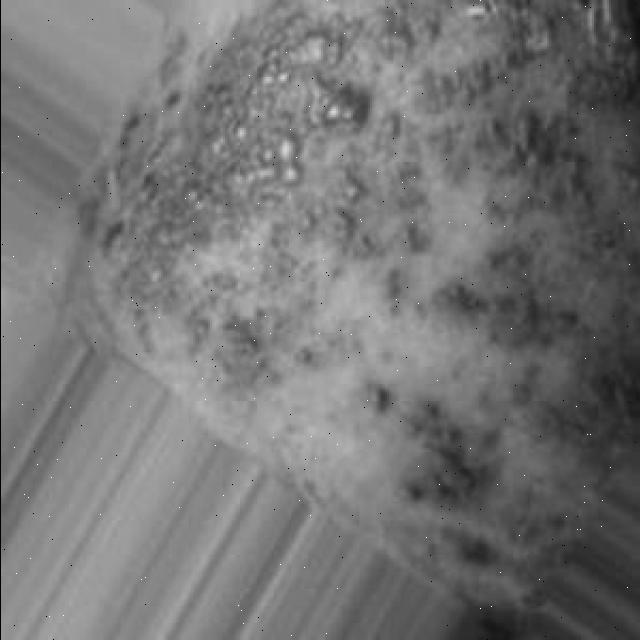Shingles: (87, 0, 640, 499)
